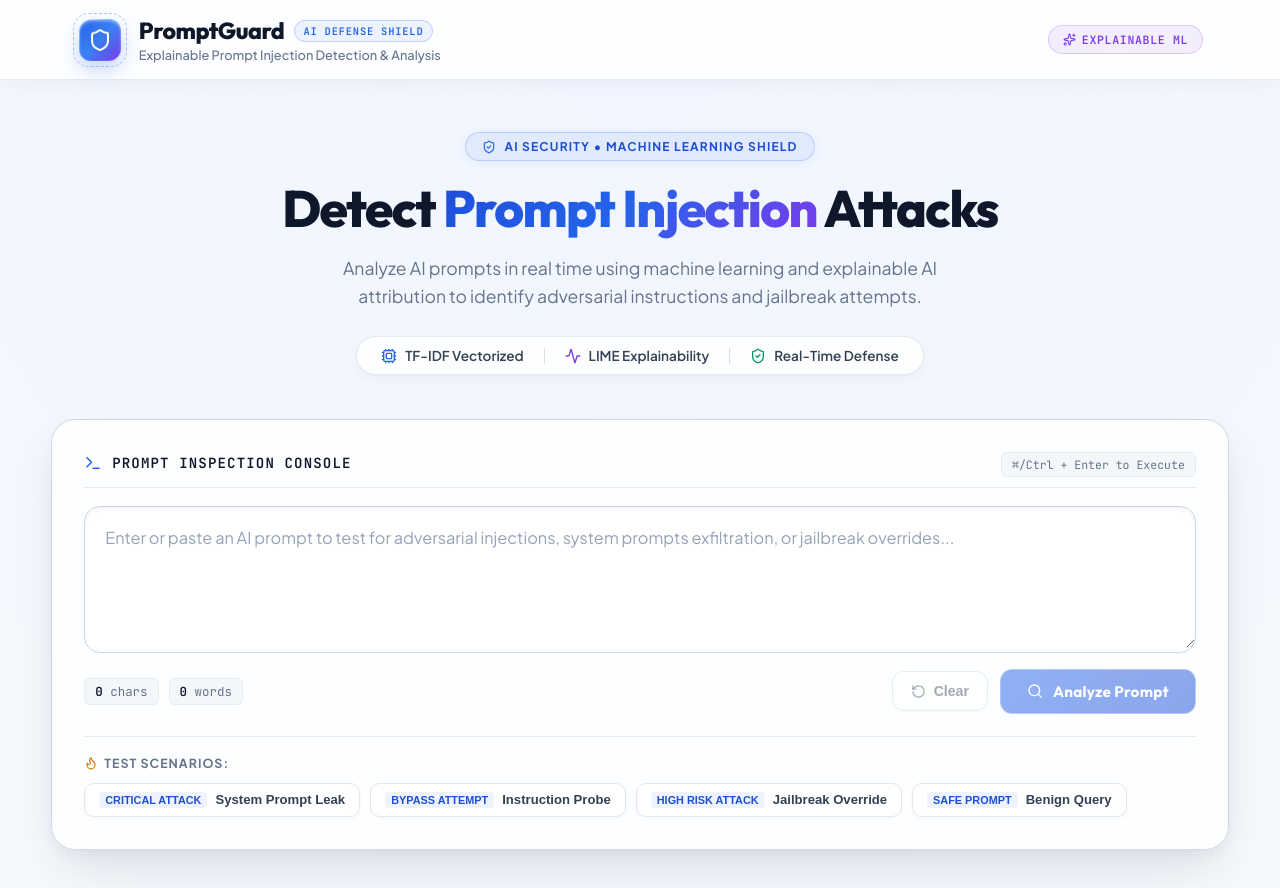
it: prompt analysis › renders a Safe verdict with probabilities and LIME words
Type "What is the capital of France?" into the text box named "Prompt to analyze". click: x=640, y=577
box: top-left (85, 507), bottom-right (1195, 648)
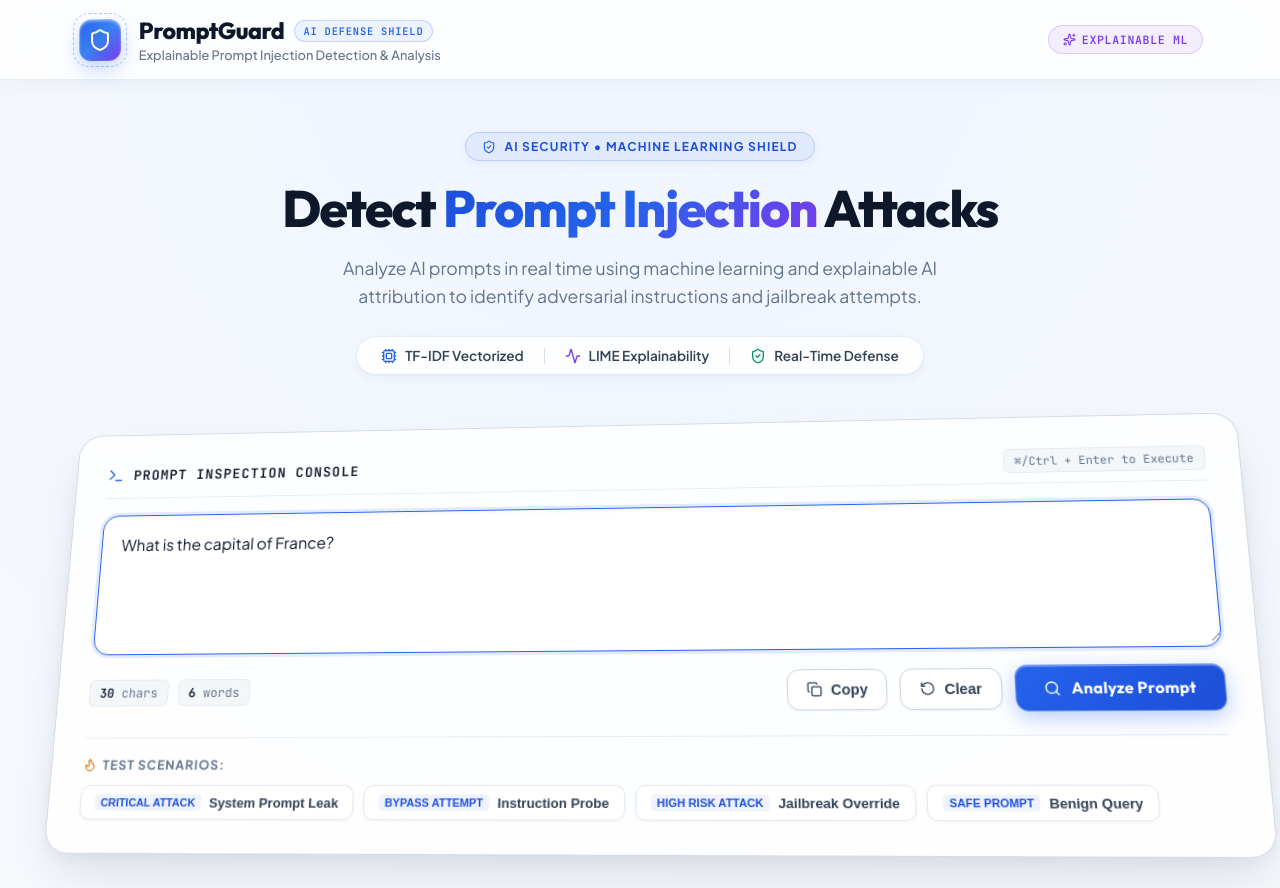
Click the button "Analyze Prompt". click: x=1121, y=688
box: top-left (1014, 664), bottom-right (1228, 712)
(page scrolled)
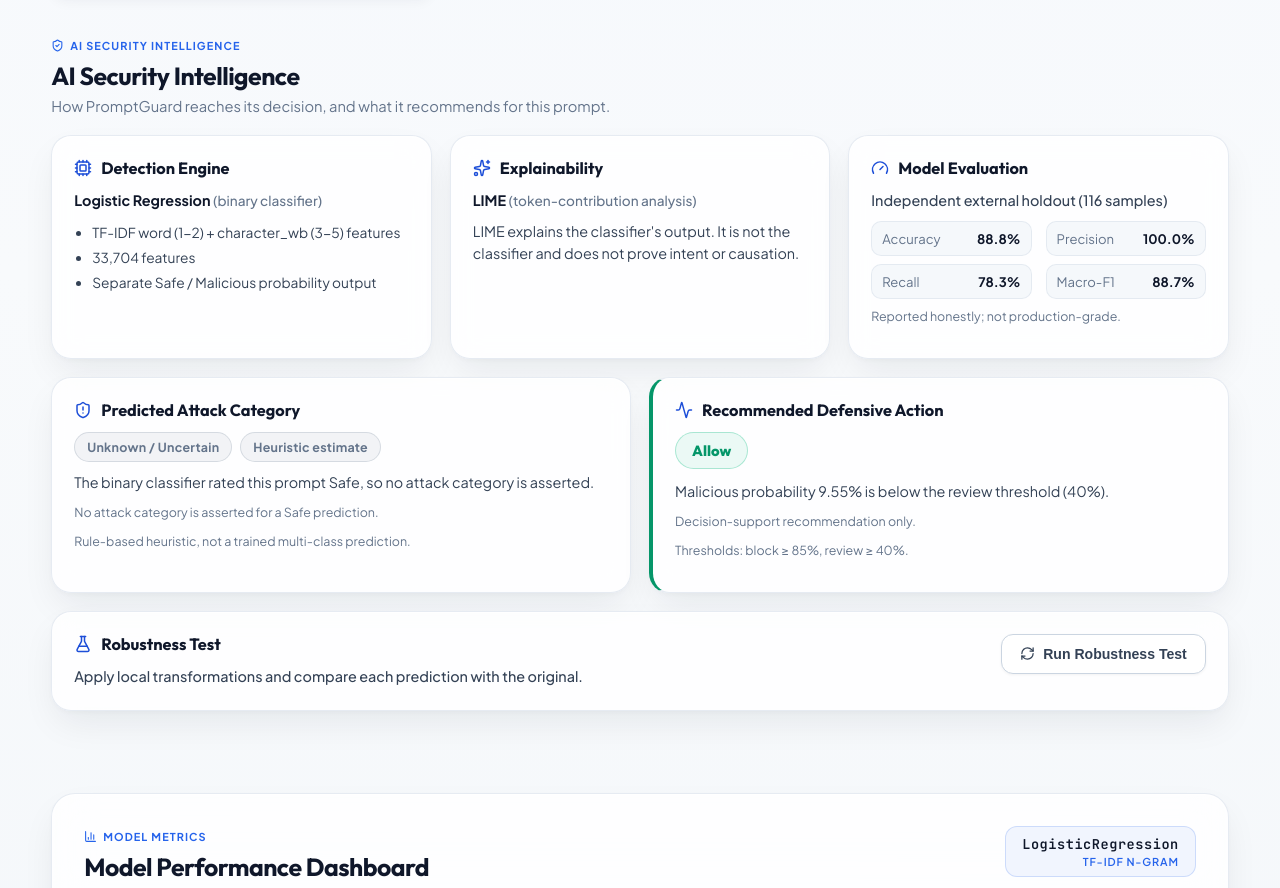
expect the text "Unknown / Uncertain" is shown: met, box top-left (74, 432), bottom-right (232, 462)
expect the text "Allow" is shown: met, box top-left (675, 432), bottom-right (748, 469)
